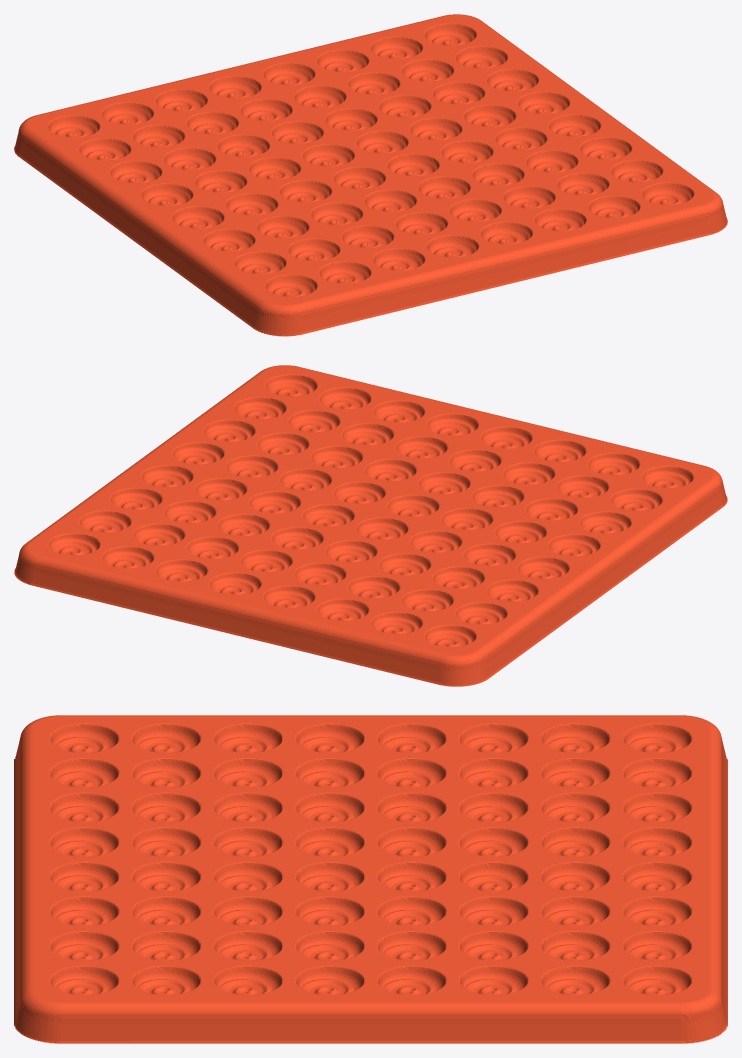
The model's file is mold.glb.
3 views of the same model, one above another, from view 1: azimuth 30°, elevation 25°; view 2: azimuth 150°, elevation 25°; view 3: azimuth 270°, elevation 25° (orthographic). The views are drawn at different scales.
Parts seen in each view (by area): view 1: geometry_0; view 2: geometry_0; view 3: geometry_0.
Boxes of the visible parts, left/top/right/bottom form: geometry_0: left=14, top=14, right=727, bottom=336; geometry_0: left=14, top=365, right=727, bottom=686; geometry_0: left=14, top=715, right=727, bottom=1043.
Size of the model in its own units: 0.1355 by 0.00704 by 0.1355.
